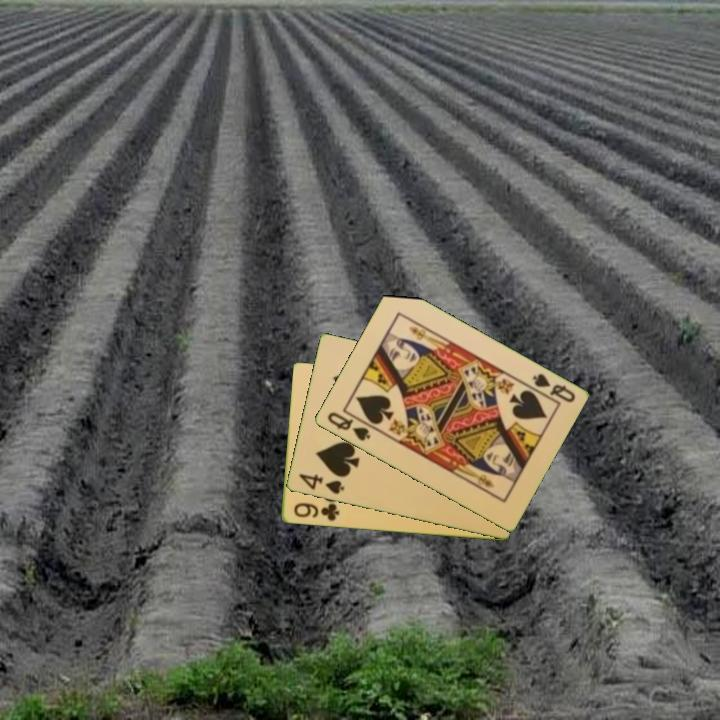4s: (295, 470, 347, 497)
9c: (290, 499, 342, 524)
Qs: (524, 370, 578, 406), (323, 409, 373, 444)
